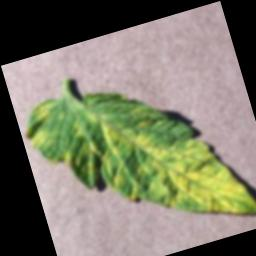Leaf_Mold: (48, 54, 256, 256), (23, 120, 58, 153), (30, 99, 57, 126)
